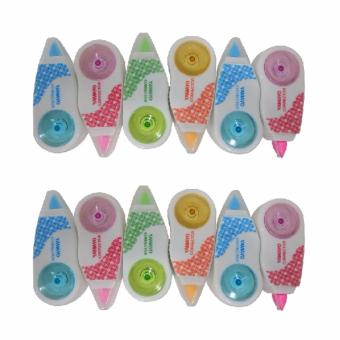Correction_fluid: (207, 35, 271, 159), (161, 30, 220, 157), (27, 187, 88, 309), (31, 34, 89, 156), (210, 187, 267, 310), (72, 37, 131, 155), (71, 189, 127, 312), (249, 194, 306, 314), (120, 182, 176, 304), (164, 185, 219, 309), (251, 43, 307, 164), (121, 29, 174, 152)
